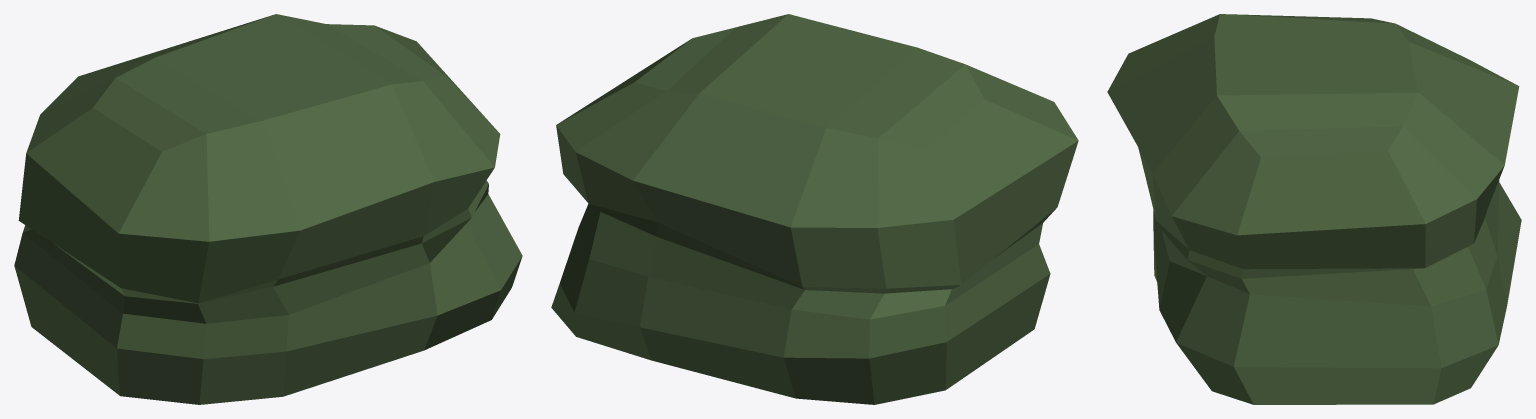
File: BushBerries_3.gltf
3 views of the same model, side by side, from view 1: azimuth 30°, elevation 25°; view 2: azimuth 150°, elevation 25°; view 3: azimuth 270°, elevation 25° (orthographic). The views are drawn at different scales.
Visible parts, largest first — view 1: BushBerries_3; view 2: BushBerries_3; view 3: BushBerries_3.
Boxes of the visible parts, x1,y1,x2,y2 form: BushBerries_3: [14, 14, 522, 404]; BushBerries_3: [551, 14, 1078, 404]; BushBerries_3: [1107, 14, 1521, 404].
Size of the model in its own units: 1.27 by 0.7438 by 1.11.
